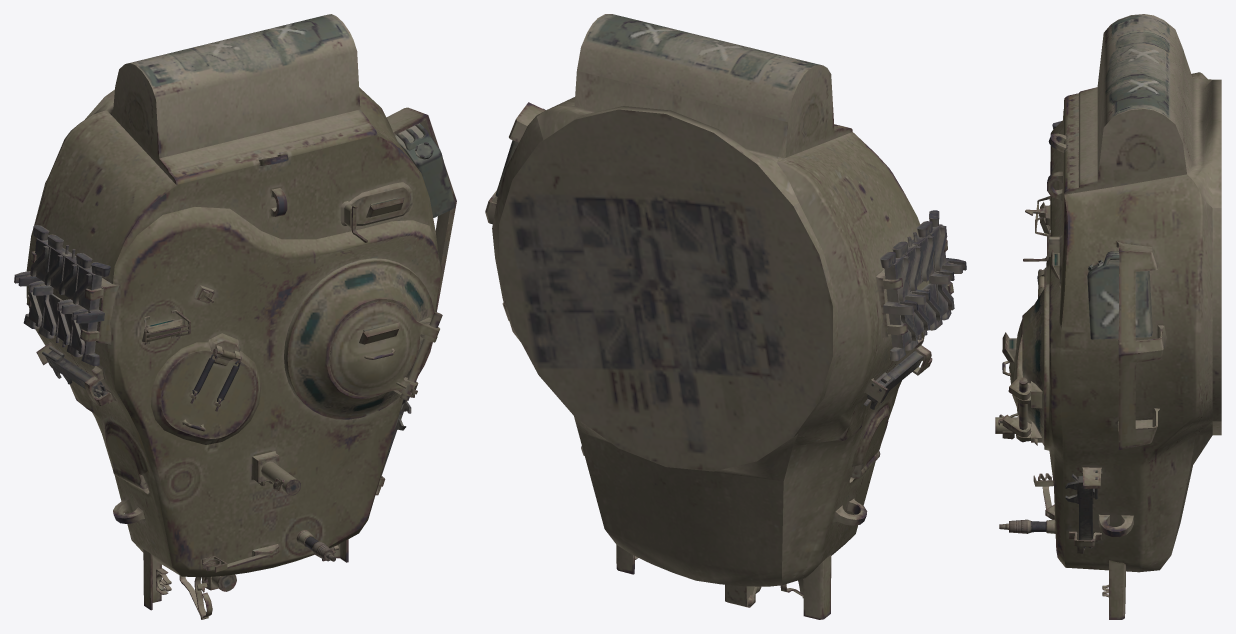
File: Turret_01.glb
3 renders of one model, left to right at view 1: azimuth 30°, elevation 25°; view 2: azimuth 150°, elevation 25°; view 3: azimuth 270°, elevation 25°, orthographic. The views are drawn at different scales.
Parts seen in each view (by area): view 1: set_0_group_0; view 2: set_0_group_0; view 3: set_0_group_0.
Boxes of the visible parts, x1,y1,x2,y2 form: set_0_group_0: [14, 14, 456, 619]; set_0_group_0: [485, 14, 966, 619]; set_0_group_0: [995, 14, 1221, 619].
Size of the model in its own units: 2.68 by 3.29 by 1.3.
1 material, 1 textured.
